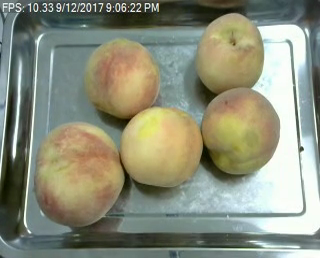Peach: (35, 119, 125, 229), (200, 86, 280, 174), (121, 106, 203, 187), (84, 37, 160, 118), (197, 13, 265, 95)
